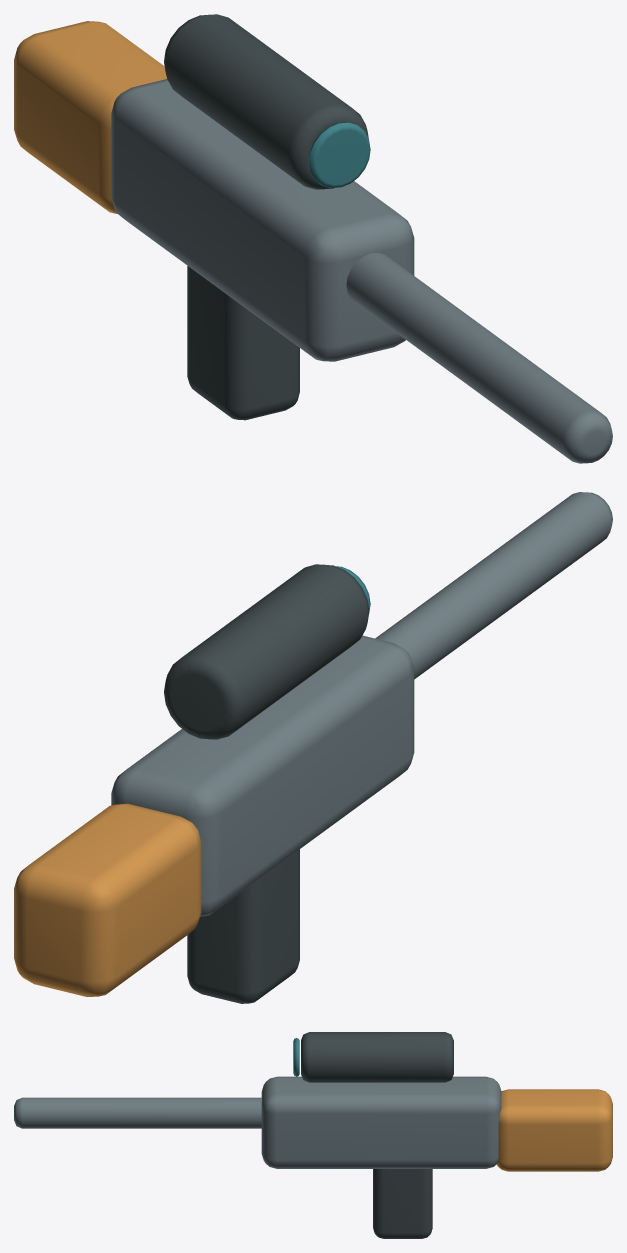
Rendered from weapon_sniper.glb.
3 views of the same model, one above another, from view 1: azimuth 30°, elevation 25°; view 2: azimuth 150°, elevation 25°; view 3: azimuth 270°, elevation 25° (orthographic). The views are drawn at different scales.
Visible parts, largest first — view 1: Receiver.009, Weapon barrel.009, Stock.007, Scope.001, Grip.009, Scope glass.001; view 2: Receiver.009, Stock.007, Scope.001, Weapon barrel.009, Grip.009; view 3: Receiver.009, Stock.007, Weapon barrel.009, Scope.001, Grip.009.
Boxes of the visible parts, x1,y1,x2,y2 form: Receiver.009: [111, 79, 414, 361]; Weapon barrel.009: [346, 253, 612, 463]; Stock.007: [14, 21, 166, 213]; Scope.001: [164, 14, 368, 189]; Grip.009: [187, 266, 299, 420]; Scope glass.001: [308, 122, 370, 187]; Receiver.009: [111, 635, 414, 916]; Stock.007: [14, 803, 201, 996]; Scope.001: [164, 564, 369, 739]; Weapon barrel.009: [375, 492, 612, 679]; Grip.009: [187, 849, 299, 1003]; Receiver.009: [261, 1076, 501, 1168]; Stock.007: [496, 1089, 612, 1171]; Weapon barrel.009: [14, 1097, 261, 1128]; Scope.001: [301, 1032, 453, 1082]; Grip.009: [373, 1169, 432, 1238].
Size of the model in its own units: 0.16 by 0.515 by 1.41.
